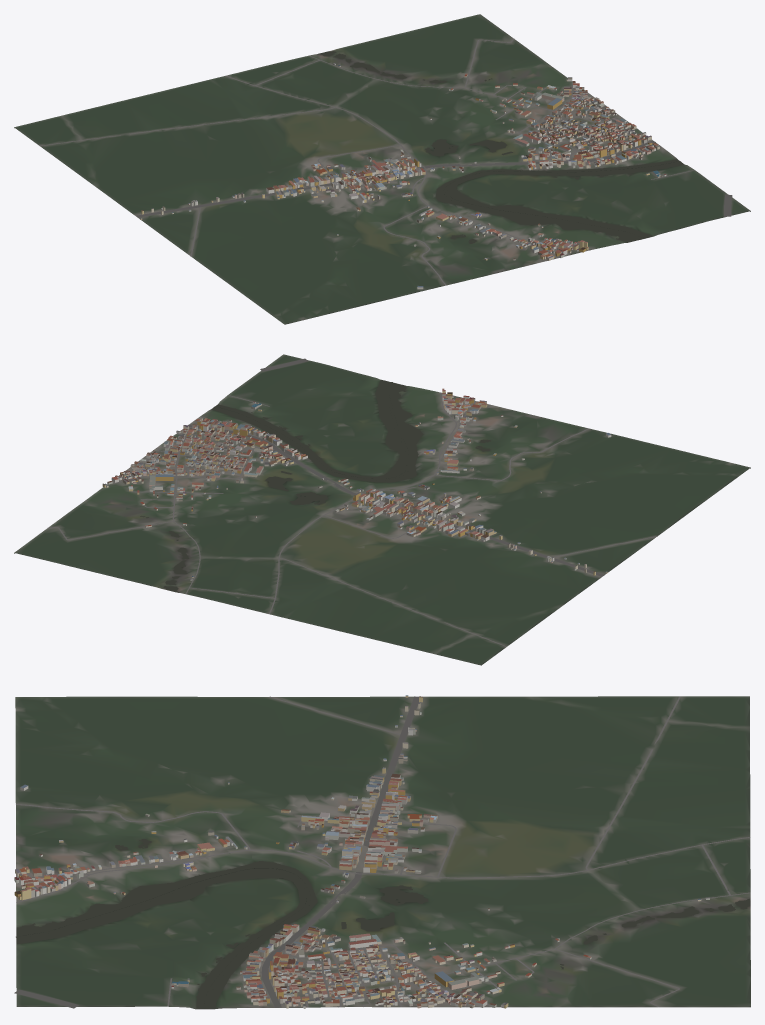
3 views of the same model, one above another, from view 1: azimuth 30°, elevation 25°; view 2: azimuth 150°, elevation 25°; view 3: azimuth 270°, elevation 25° (orthographic). The views are drawn at different scales.
Parts seen in each view (by area): view 1: ground, buildings, water, roads; view 2: ground, buildings, water, roads; view 3: ground, buildings, water, roads.
Boxes of the visible parts, x1,y1,x2,y2 form: ground: [14, 14, 750, 324]; buildings: [140, 63, 666, 289]; water: [318, 51, 683, 243]; roads: [40, 38, 732, 285]; ground: [14, 354, 750, 665]; buildings: [102, 388, 611, 580]; water: [140, 379, 491, 592]; roads: [48, 358, 657, 646]; ground: [15, 696, 750, 1009]; buildings: [14, 695, 709, 1008]; water: [16, 839, 749, 1008]; roads: [14, 696, 750, 1008].
Size of the model in its own units: 1409 by 27.99 by 1407.
